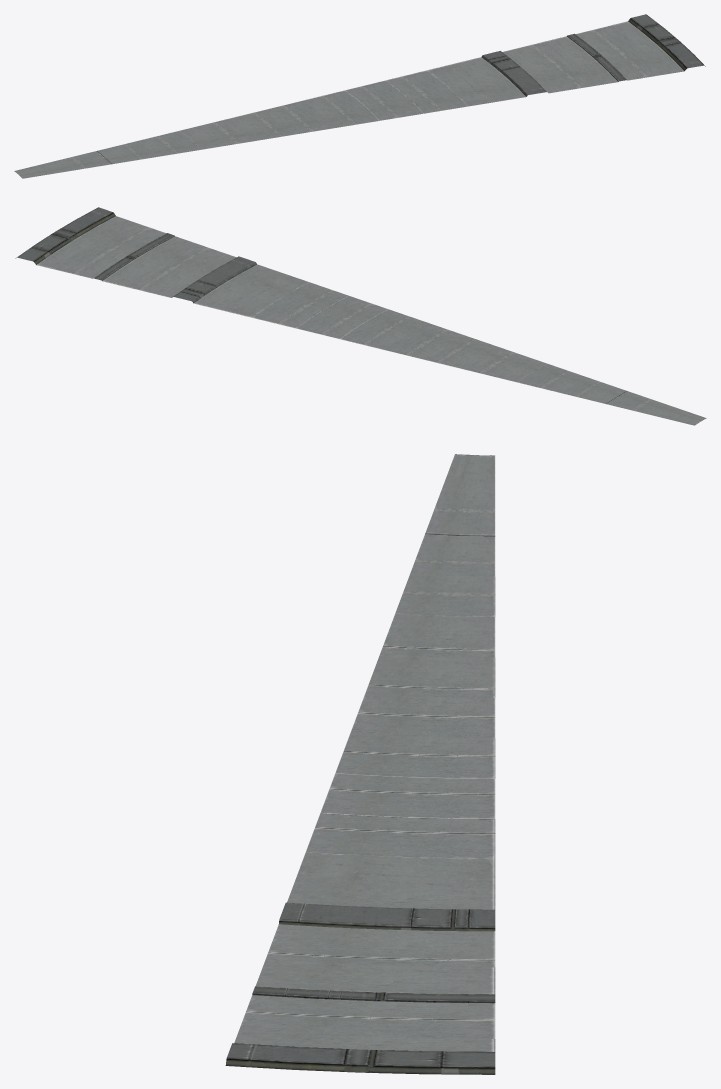
The model's file is Club_DanceRoof_01.FBX.
3 renders of one model, top to bottom at view 1: azimuth 30°, elevation 25°; view 2: azimuth 150°, elevation 25°; view 3: azimuth 270°, elevation 25°, orthographic. The views are drawn at different scales.
Parts seen in each view (by area): view 1: Club_DanceRoof_01; view 2: Club_DanceRoof_01; view 3: Club_DanceRoof_01.
Boxes of the visible parts, x1,y1,x2,y2 form: Club_DanceRoof_01: (14,14,705,178); Club_DanceRoof_01: (15,207,706,425); Club_DanceRoof_01: (225,454,495,1074).
Bounding box in the file's own units: 40.63 × 0.1596 × 7.46.
